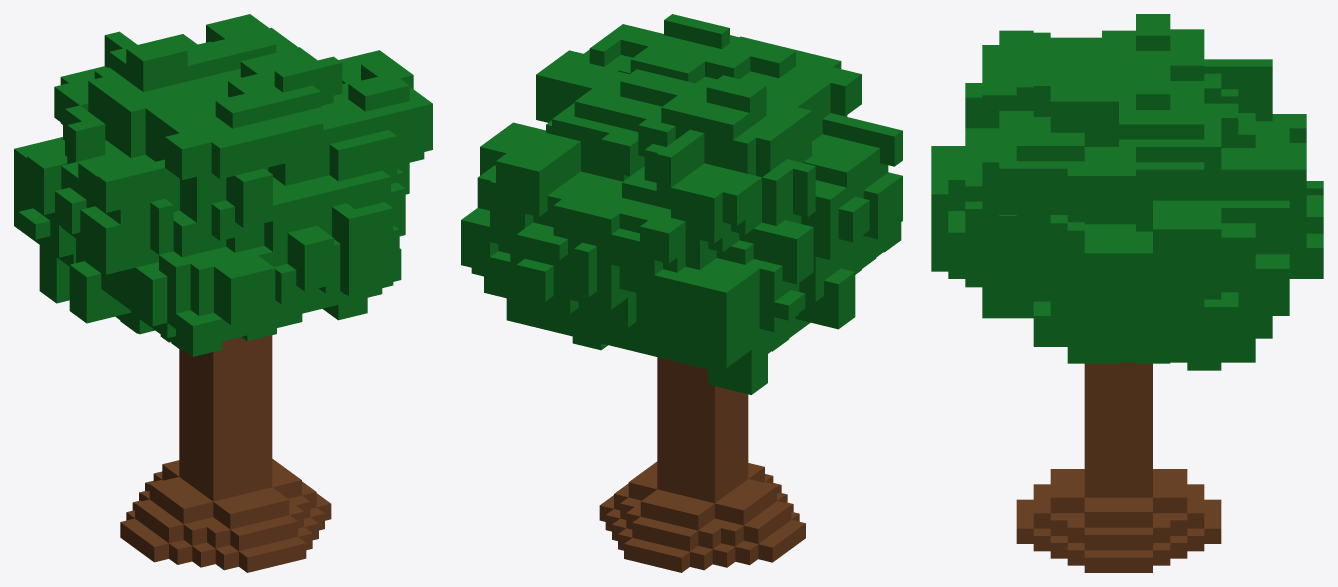
File: tree_messy_1.dae
The picture shows the model from 3 angles, left to right: view 1: azimuth 30°, elevation 25°; view 2: azimuth 150°, elevation 25°; view 3: azimuth 270°, elevation 25°; orthographic projection. The views are drawn at different scales.
Visible parts, largest first — view 1: PlaneCOL; view 2: PlaneCOL; view 3: PlaneCOL.
Part boxes in pixels (x1,y1,x2,y2): PlaneCOL: [14, 14, 432, 572]; PlaneCOL: [461, 14, 902, 572]; PlaneCOL: [931, 14, 1323, 572].
Size of the model in its own units: 2.3 by 2.3 by 3.1.
